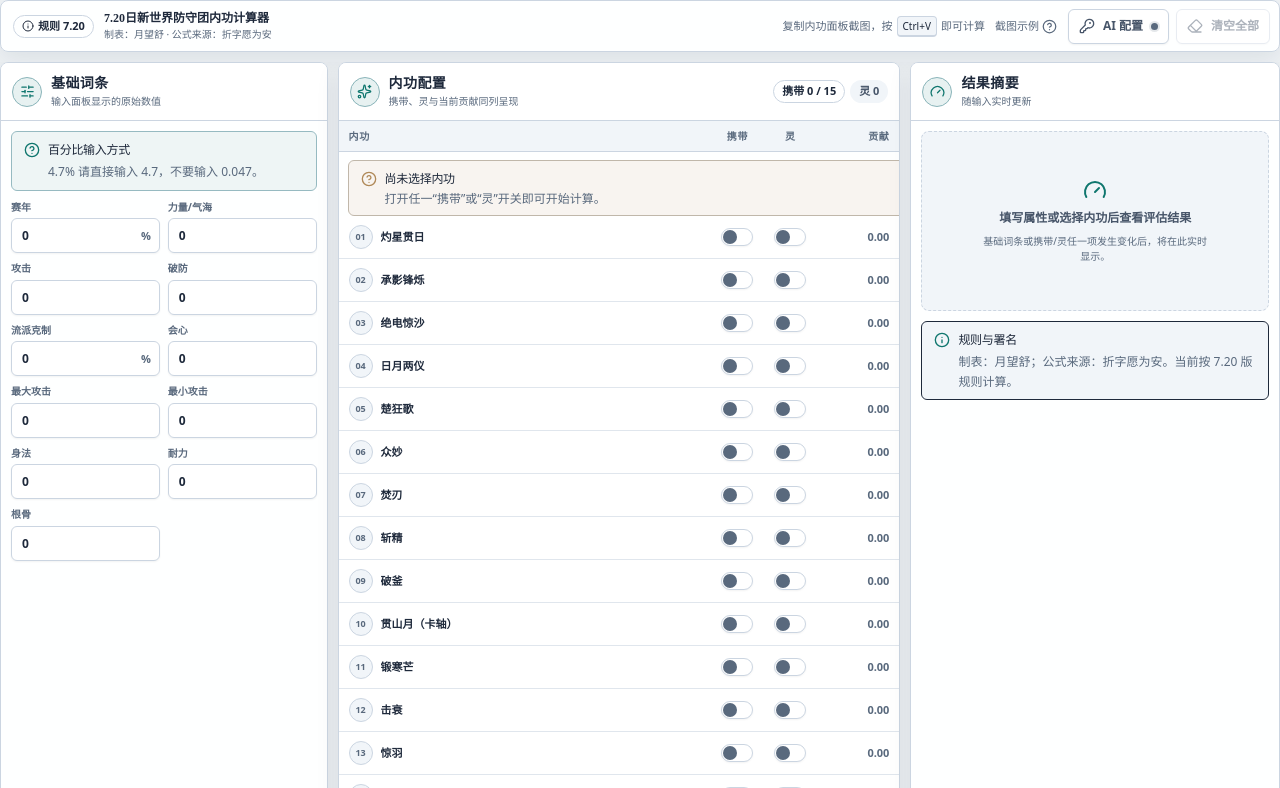
InternalSkillCalculatorPage › shows the screenshot example from the toolbar help button
Hover over the button with aria-label "查看截图示例": (1026, 26) left=991, top=14, right=1061, bottom=38
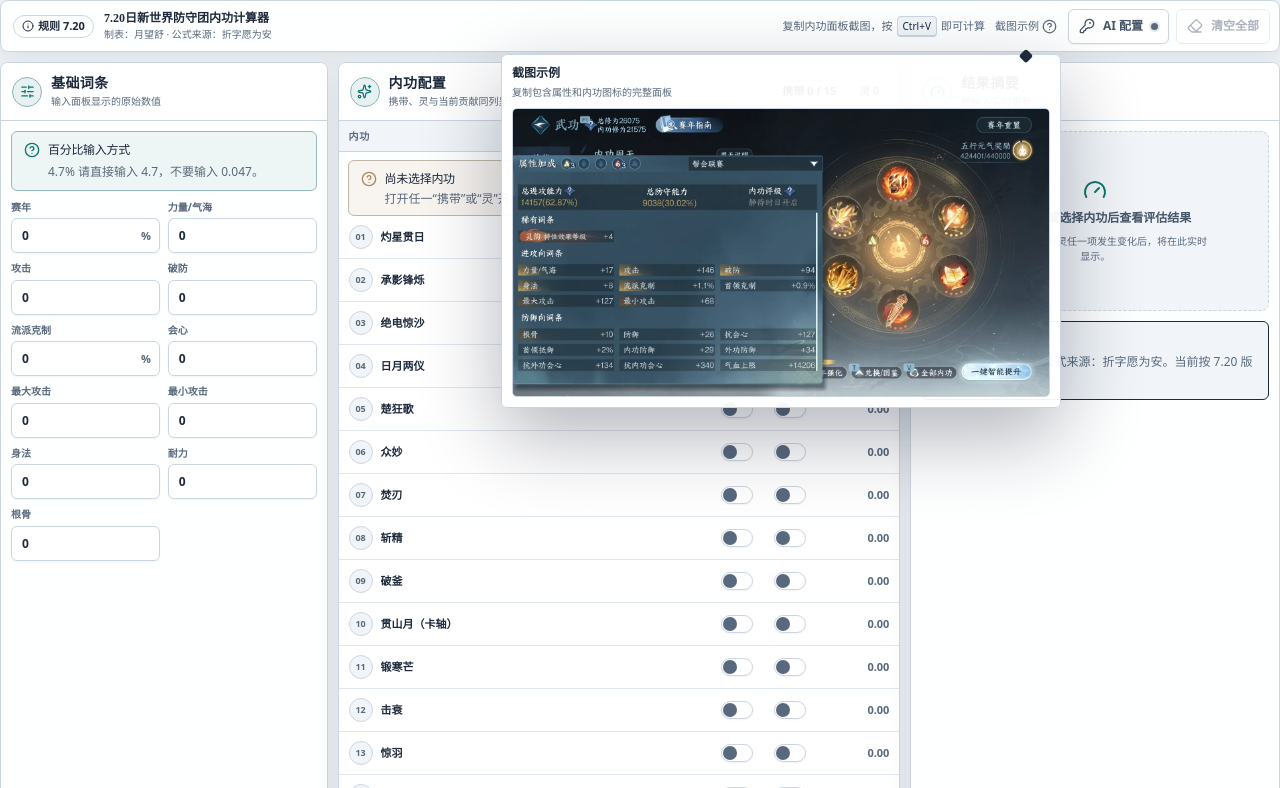
Expected: the 2nd text "截图示例" is shown, left=512, top=64, right=560, bottom=81
Expected: the text "复制包含属性和内功图标的完整面板" is shown, left=512, top=85, right=672, bottom=99
Press Escape
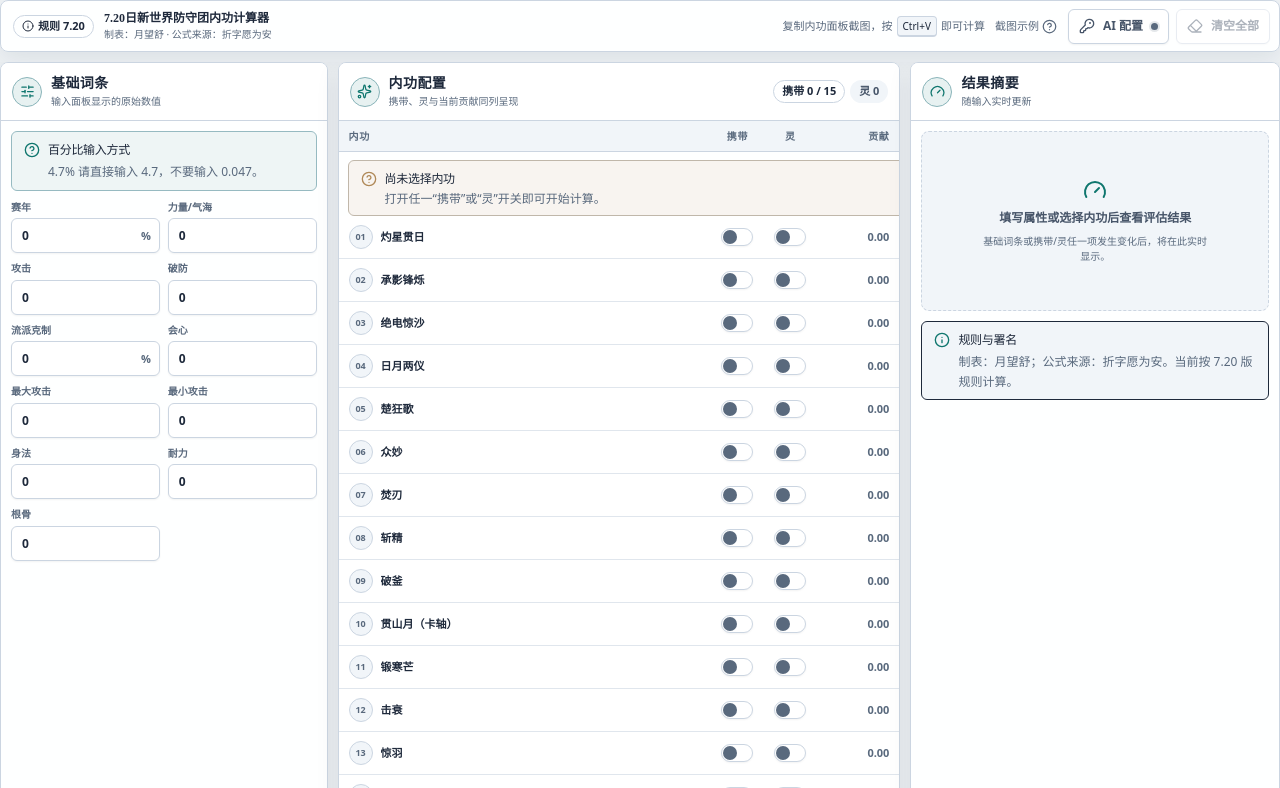
Expected: the tooltip "截图示例 复制包含属性和内功图标的完整面板" is gone
